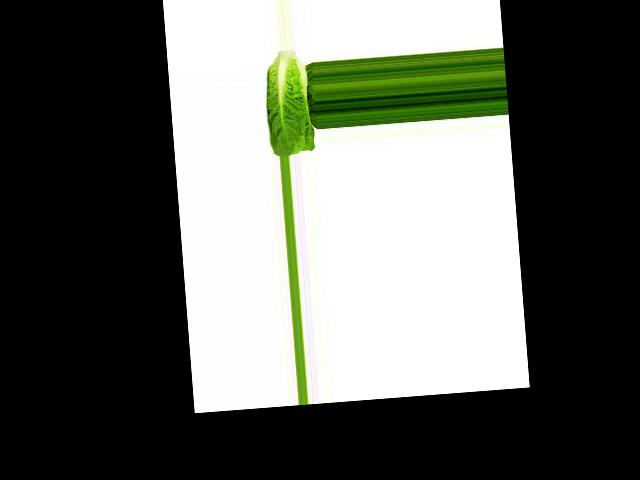lettuce: (255, 49, 313, 158)
